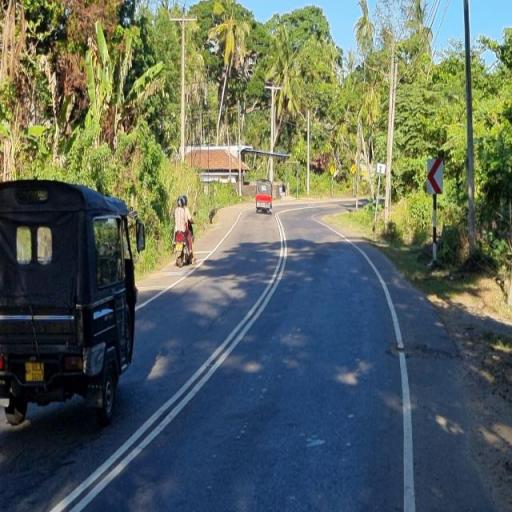double_white_line: (47, 205, 293, 512)
